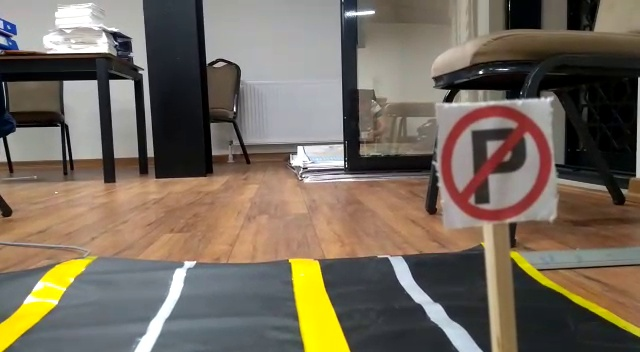park_yapilmaz: (434, 99, 563, 222)
